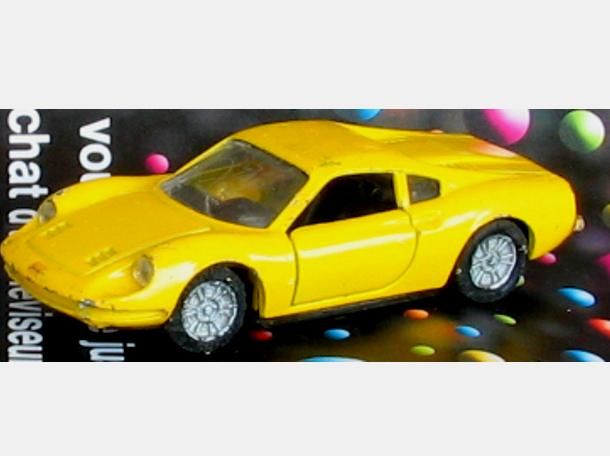toy-car: (0, 119, 578, 356)
